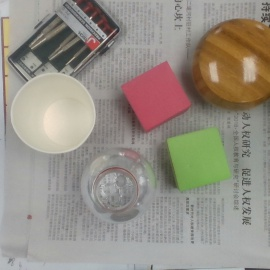bottle: (82, 148, 154, 221)
chess: (193, 18, 270, 112)
cup: (11, 73, 96, 154)
